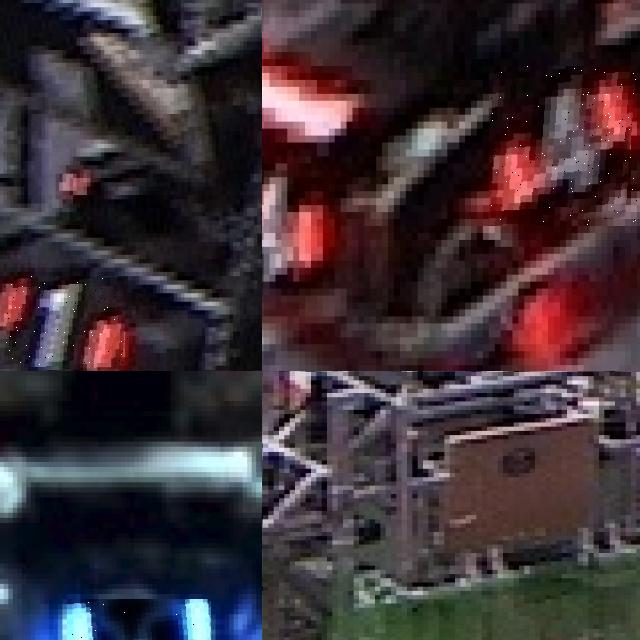Bs: (67, 598, 211, 640)
R1: (0, 276, 128, 371)
R4: (489, 66, 637, 226), (262, 153, 331, 278)
